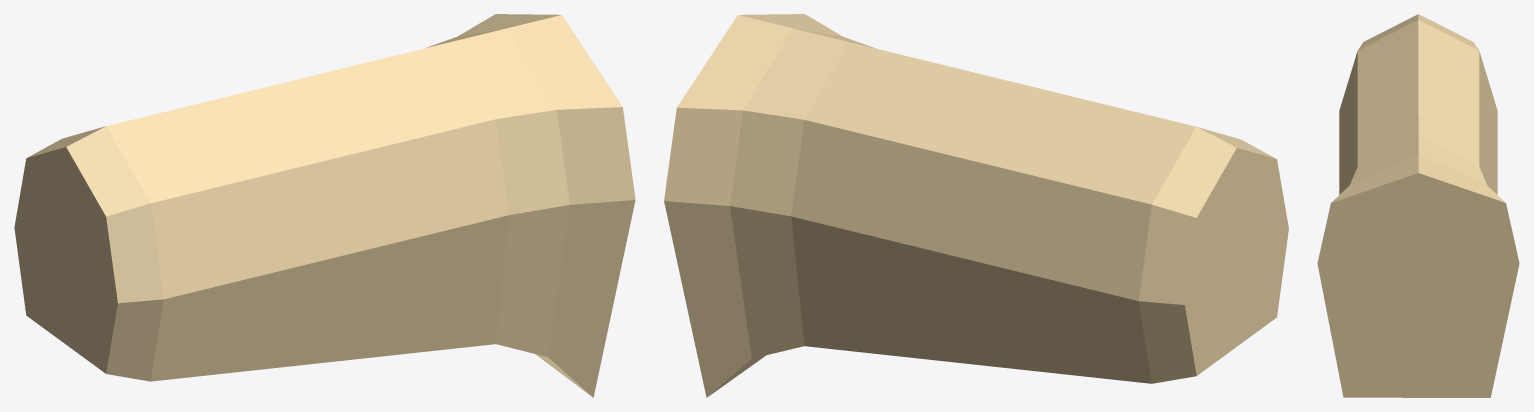
The model's file is RightArmSoulder.fbx.
3 renders of one model, left to right at view 1: azimuth 30°, elevation 25°; view 2: azimuth 150°, elevation 25°; view 3: azimuth 270°, elevation 25°, orthographic. The views are drawn at different scales.
Parts seen in each view (by area): view 1: RightArmSoulder; view 2: RightArmSoulder; view 3: RightArmSoulder.
Boxes of the visible parts, left/top/right/bottom form: RightArmSoulder: left=14, top=14, right=635, bottom=397; RightArmSoulder: left=664, top=14, right=1288, bottom=397; RightArmSoulder: left=1317, top=14, right=1519, bottom=397.
Bounding box in the file's own units: 39.64 × 25.78 × 20.32.
